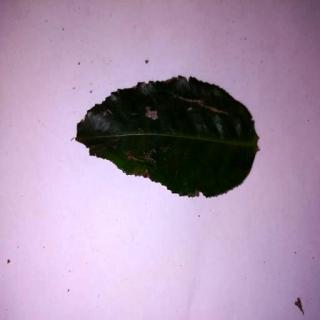Anthracnose: (75, 75, 263, 202)
